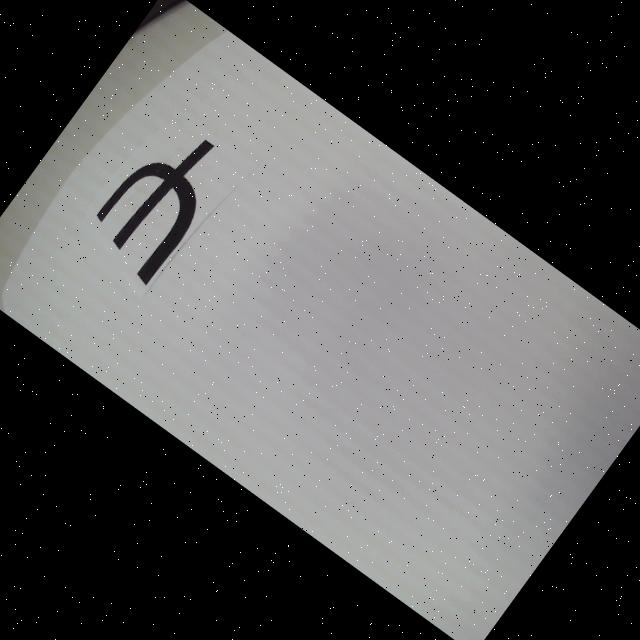PSI: (79, 112, 237, 286)
